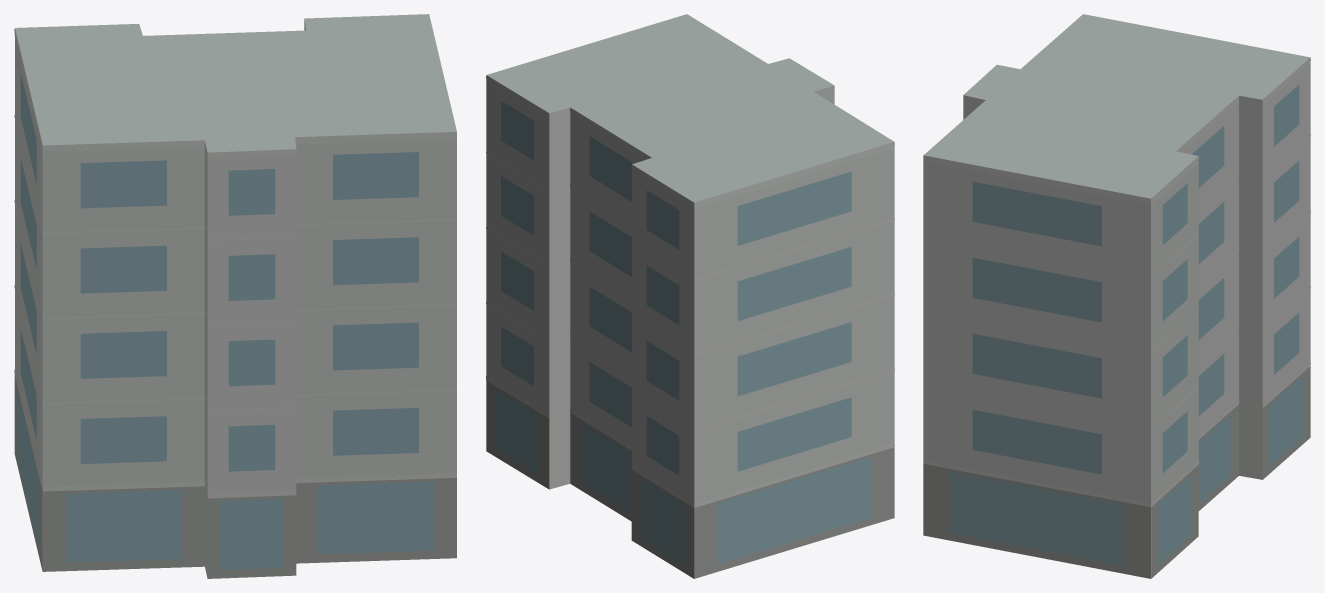
Rendered from survey-upis-32635819.glb.
3 renders of one model, left to right at view 1: azimuth 30°, elevation 25°; view 2: azimuth 150°, elevation 25°; view 3: azimuth 270°, elevation 25°, orthographic. The views are drawn at different scales.
Visible parts, largest first — view 1: survey-upis-32635819.tmp; view 2: survey-upis-32635819.tmp; view 3: survey-upis-32635819.tmp.
Part boxes in pixels (x1,y1,x2,y2): survey-upis-32635819.tmp: (14,14,456,578); survey-upis-32635819.tmp: (486,14,894,578); survey-upis-32635819.tmp: (923,14,1310,578).
Bounding box in the file's own units: 14.77 × 14.15 × 13.08.
